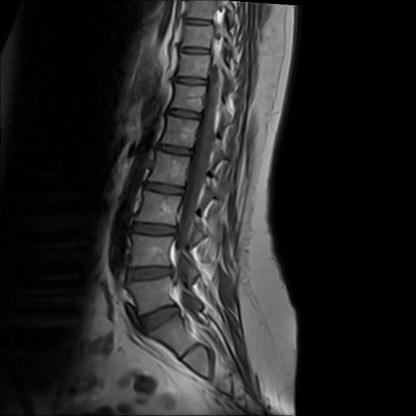Disc Bulgerotation: (140, 306, 184, 332), (125, 264, 176, 285), (135, 221, 178, 238)
